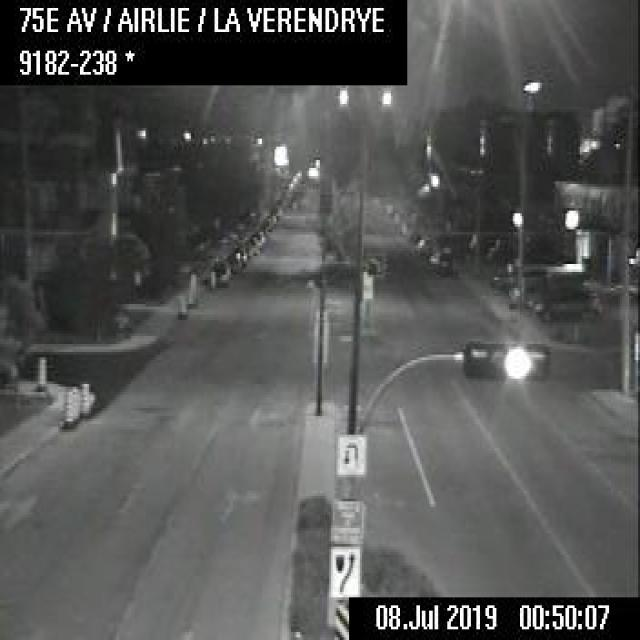construction: (78, 378, 90, 416), (62, 381, 72, 424), (68, 384, 78, 420), (187, 270, 196, 308), (176, 289, 186, 319), (36, 352, 44, 387), (209, 269, 216, 288)
vehicle: (534, 285, 600, 324), (490, 262, 546, 290), (428, 247, 449, 272), (413, 233, 435, 255), (210, 260, 228, 281), (226, 250, 240, 272)
